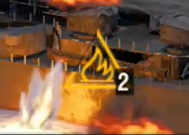2fire: (63, 53, 133, 97)
